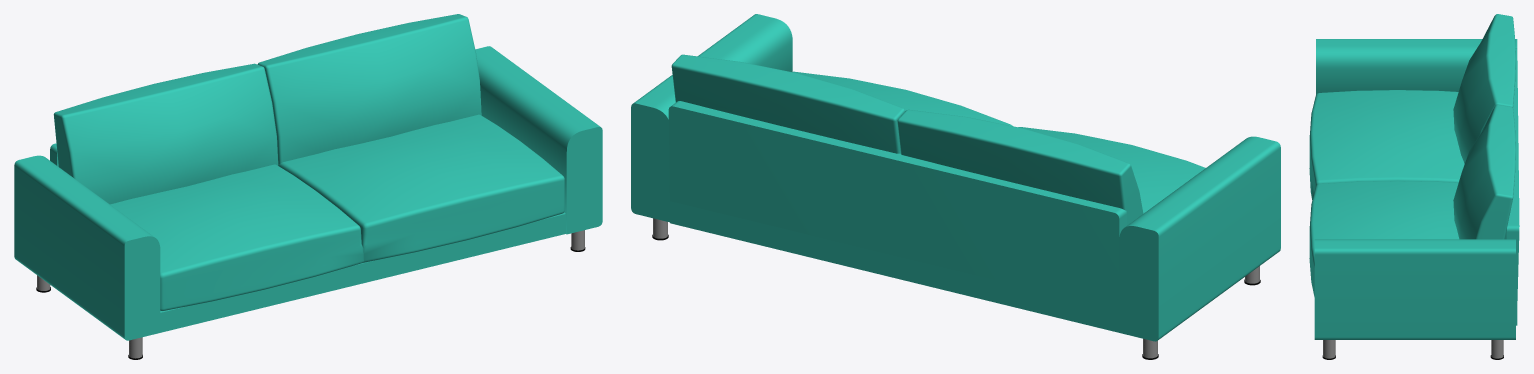
The picture shows the model from 3 angles, left to right: view 1: azimuth 30°, elevation 25°; view 2: azimuth 150°, elevation 25°; view 3: azimuth 270°, elevation 25°; orthographic projection. The views are drawn at different scales.
Visible parts, largest first — view 1: Box003, Box007, Box006, Box002, Box004, Box001; view 2: Box005, Box002, Box006, Box007, Box001, Box004, Box003; view 3: Box003, Box004, Box002, Box007, Box006, Box005, Cylinder005, Cylinder007.
Part boxes in pixels (x1,y1,x2,y2): Box003: [110, 114, 564, 310]; Box007: [257, 14, 481, 164]; Box006: [53, 63, 278, 204]; Box002: [14, 155, 160, 340]; Box004: [475, 46, 602, 234]; Box001: [160, 212, 565, 332]; Box005: [668, 101, 1126, 310]; Box002: [1119, 136, 1280, 341]; Box006: [897, 109, 1143, 225]; Box007: [671, 54, 905, 153]; Box001: [670, 201, 1119, 332]; Box004: [631, 14, 792, 222]; Box003: [792, 71, 1205, 213]; Box003: [1309, 90, 1464, 296]; Box004: [1314, 239, 1515, 339]; Box002: [1316, 39, 1517, 94]; Box007: [1453, 105, 1515, 239]; Box006: [1453, 14, 1515, 163]; Box005: [1505, 48, 1519, 307]; Cylinder005: [1323, 340, 1335, 358]; Cylinder007: [1491, 340, 1503, 358].
Bounding box in the file's own units: 200 × 69.27 × 83.44.
